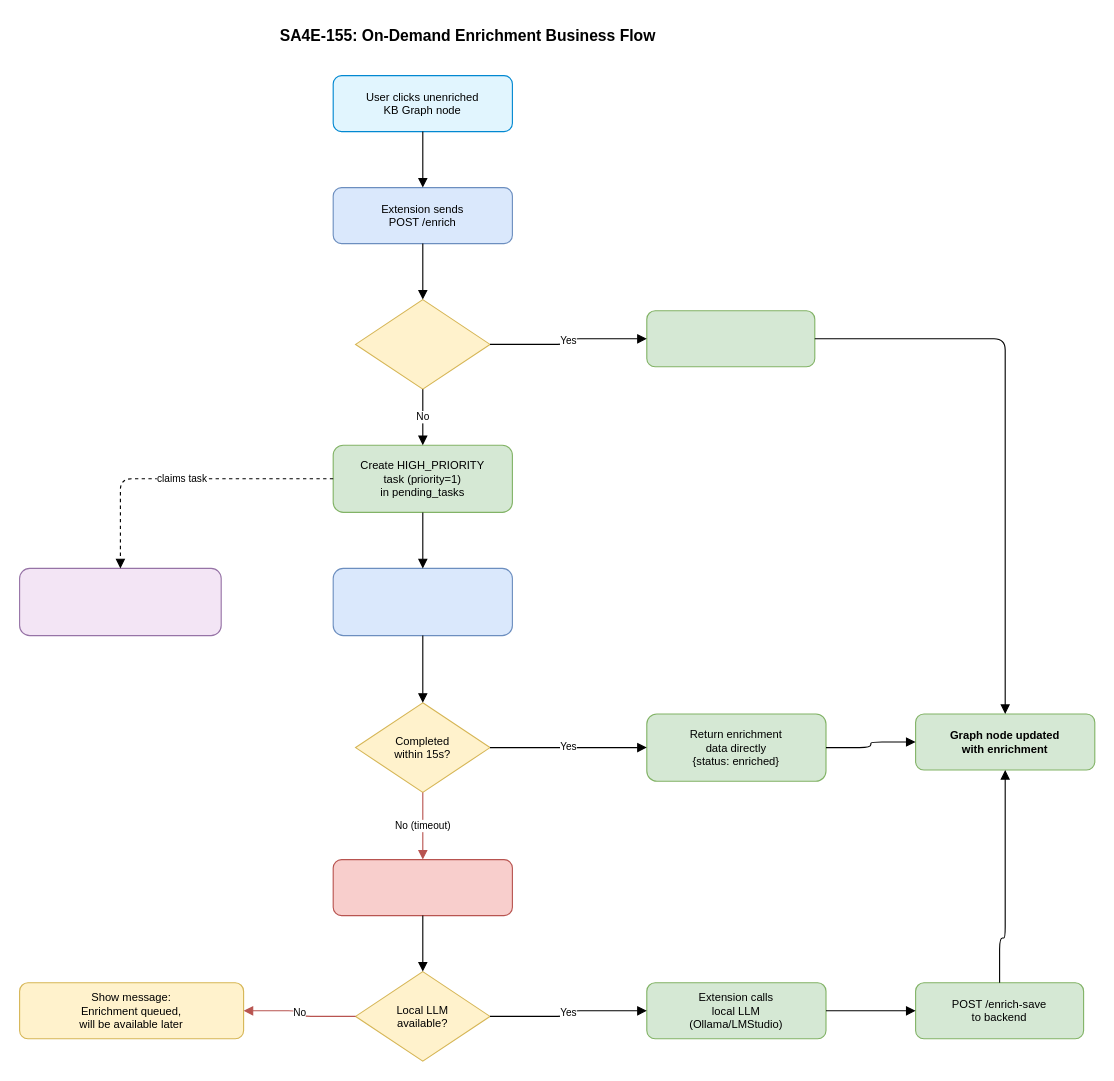
Image size: 1114x1081. Some labels were removed from this diagram. The centre of each missing label's shape, as x and y in pixels:
"Already enriched?" goes at [422,343].
"Poll task status every 500ms (max 15s timeout)" goes at [422,601].
"Return cached enrichment data" goes at [730,338].
"Return {status: timeout} HTTP 202" goes at [422,887].
"TaskWorker claims HIGH_PRIORITY first (ORDER BY priority DESC)" goes at [119,601].
